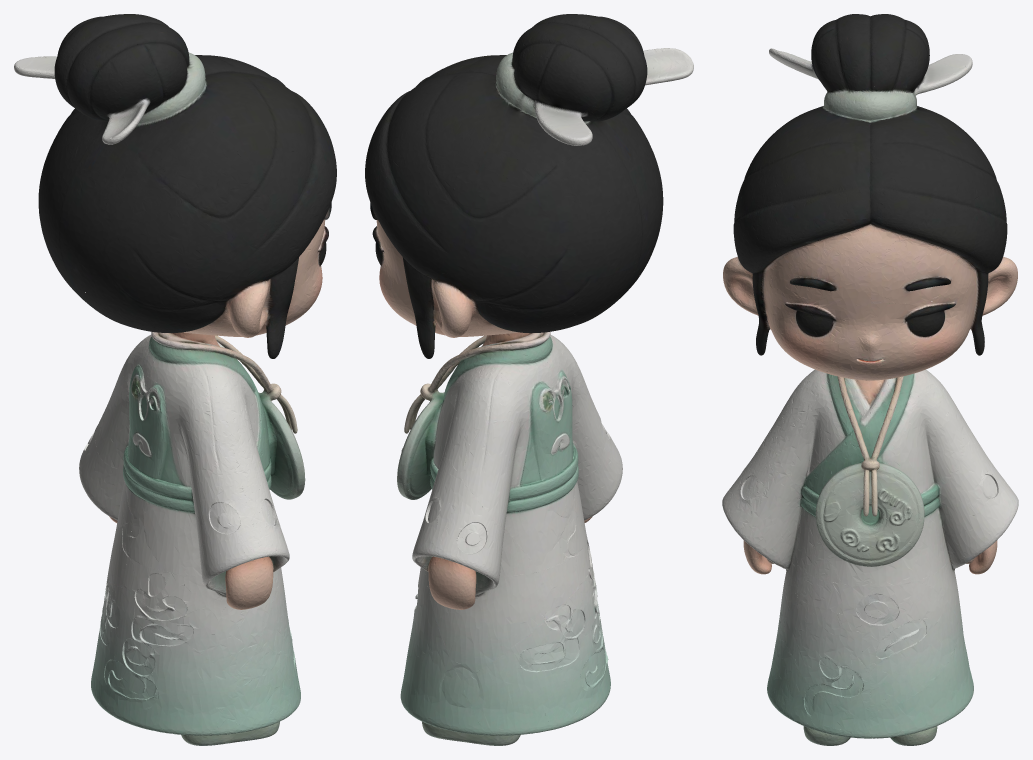
3 renders of one model, left to right at view 1: azimuth 30°, elevation 25°; view 2: azimuth 150°, elevation 25°; view 3: azimuth 270°, elevation 25°, orthographic. The views are drawn at different scales.
Parts seen in each view (by area): view 1: tripo_node_8fead0ee-dc2d-40e7-95c3-73c29eb0d171; view 2: tripo_node_8fead0ee-dc2d-40e7-95c3-73c29eb0d171; view 3: tripo_node_8fead0ee-dc2d-40e7-95c3-73c29eb0d171.
Boxes of the visible parts, bbox=[...] form: tripo_node_8fead0ee-dc2d-40e7-95c3-73c29eb0d171: bbox=[14, 14, 336, 745]; tripo_node_8fead0ee-dc2d-40e7-95c3-73c29eb0d171: bbox=[365, 14, 693, 745]; tripo_node_8fead0ee-dc2d-40e7-95c3-73c29eb0d171: bbox=[722, 14, 1018, 745].
Size of the model in its own units: 0.3662 by 1 by 0.4026.
1 material, 1 textured.
